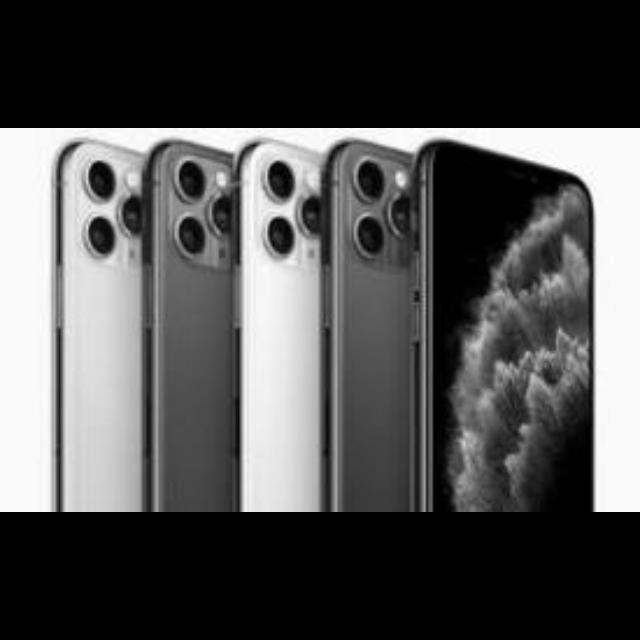fake: (420, 140, 598, 522)
